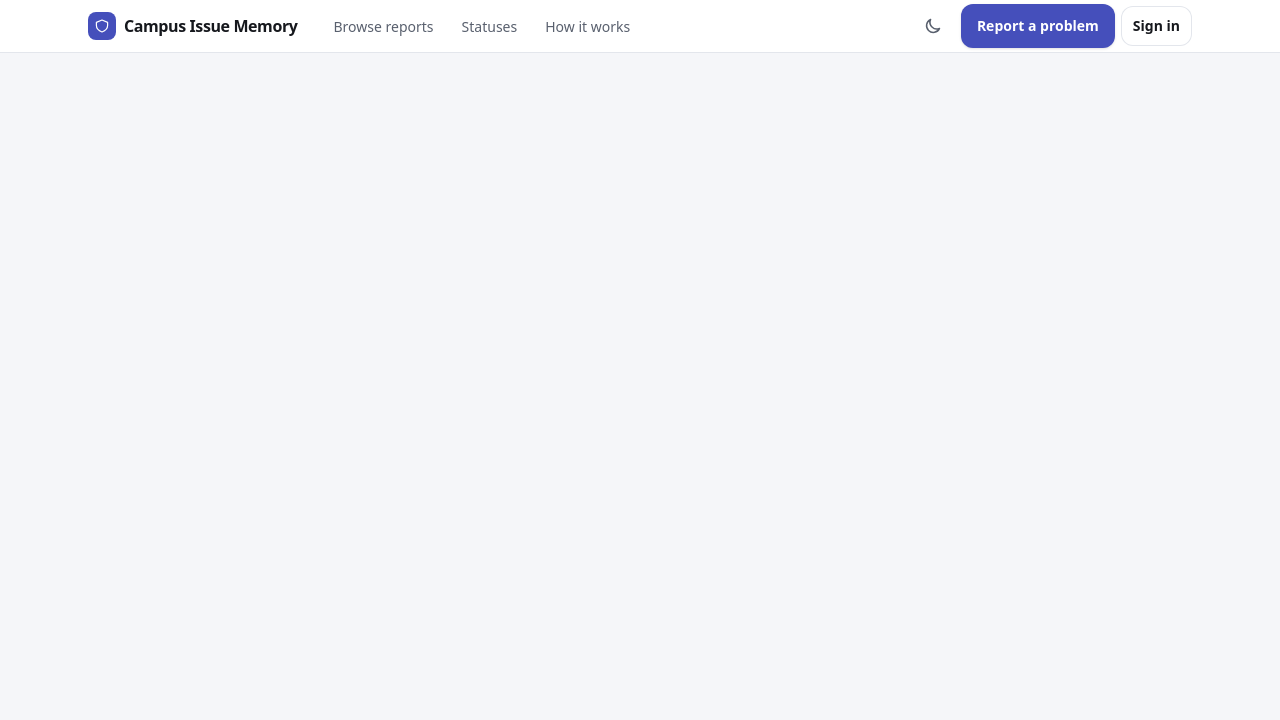
Test case: Header › toggles between light and dark theme
This screenshot has width=1280, height=720.
Click the button named "Switch to dark theme": {"x": 933, "y": 26} 911,4 -> 955,48
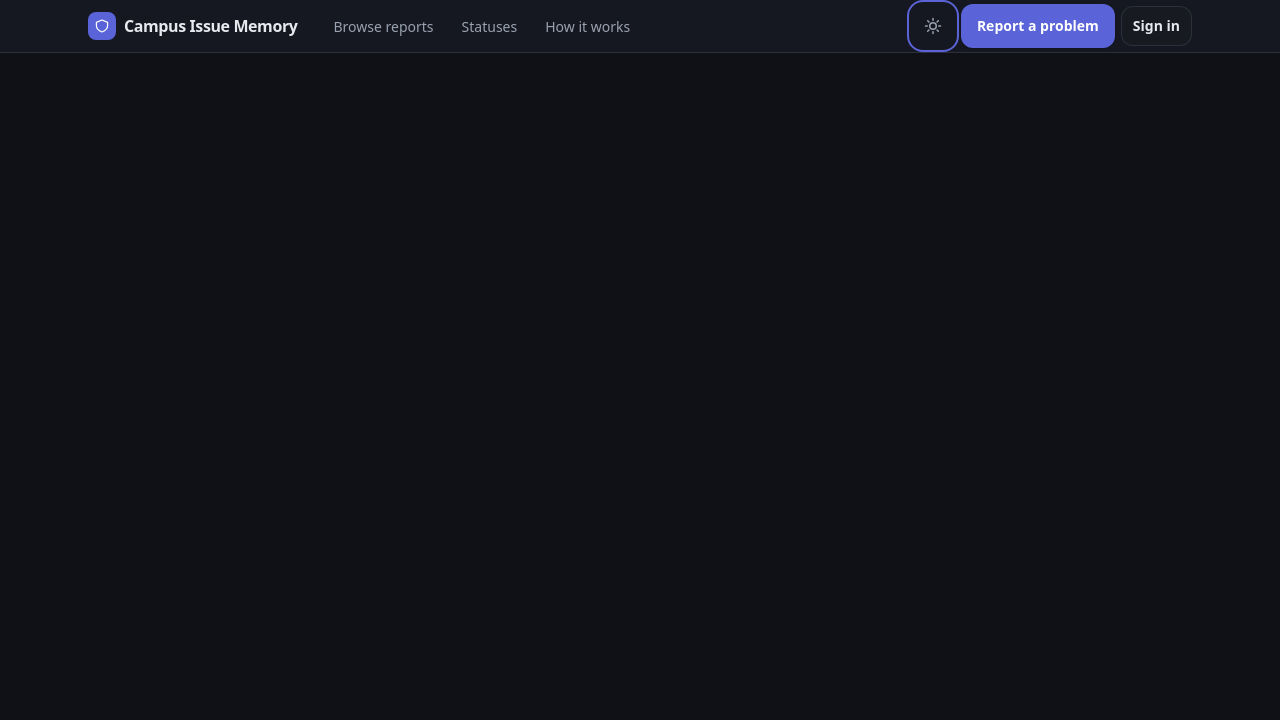
Now the button named "Switch to light theme" is shown, box 911,4 -> 955,48
